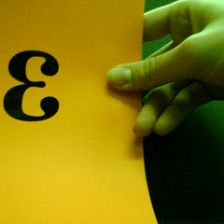orange3: (1, 48, 65, 123)
